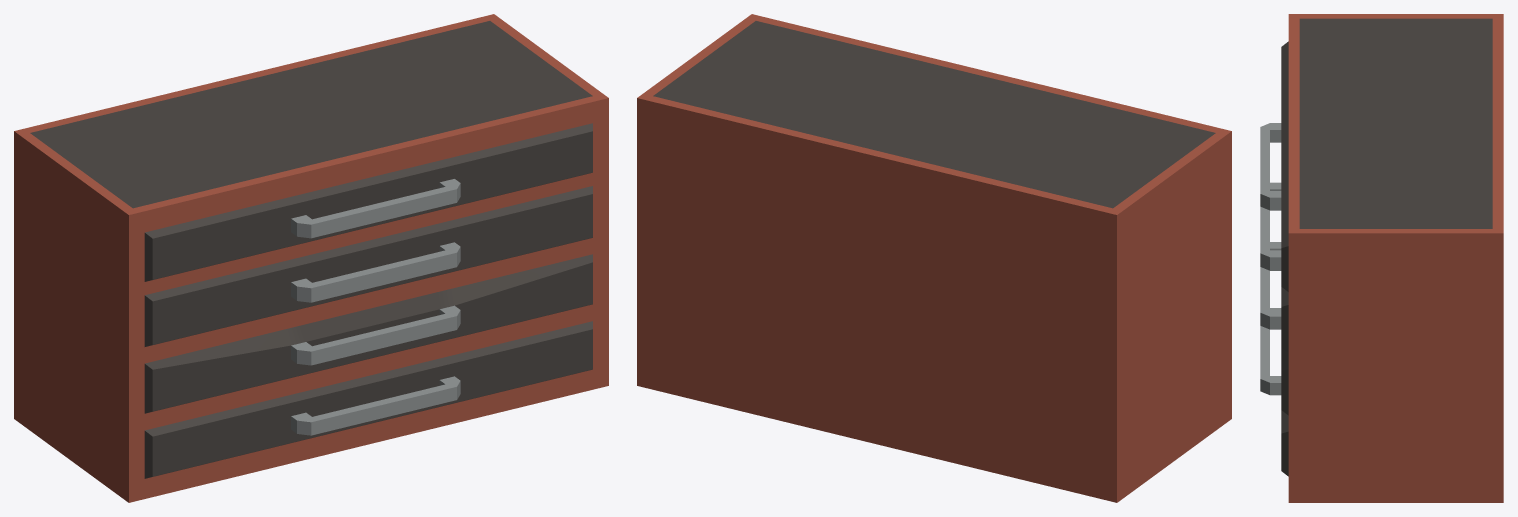
The model's file is GarageShortDrawers.fbx.
3 views of the same model, side by side, from view 1: azimuth 30°, elevation 25°; view 2: azimuth 150°, elevation 25°; view 3: azimuth 270°, elevation 25° (orthographic). The views are drawn at different scales.
Parts seen in each view (by area): view 1: pCube1; view 2: pCube1; view 3: pCube1.
Part boxes in pixels (<box>): pCube1: <box>14,14,608,502</box>; pCube1: <box>637,14,1231,502</box>; pCube1: <box>1260,14,1503,502</box>.
Size of the model in its own units: 83.27 by 47.72 by 39.07.
